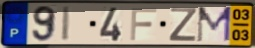4: (98, 5, 125, 43)
9: (31, 4, 59, 44)
F: (129, 7, 159, 42)
I: (60, 6, 74, 43)
M: (195, 5, 233, 44)
Z: (167, 7, 199, 43)
